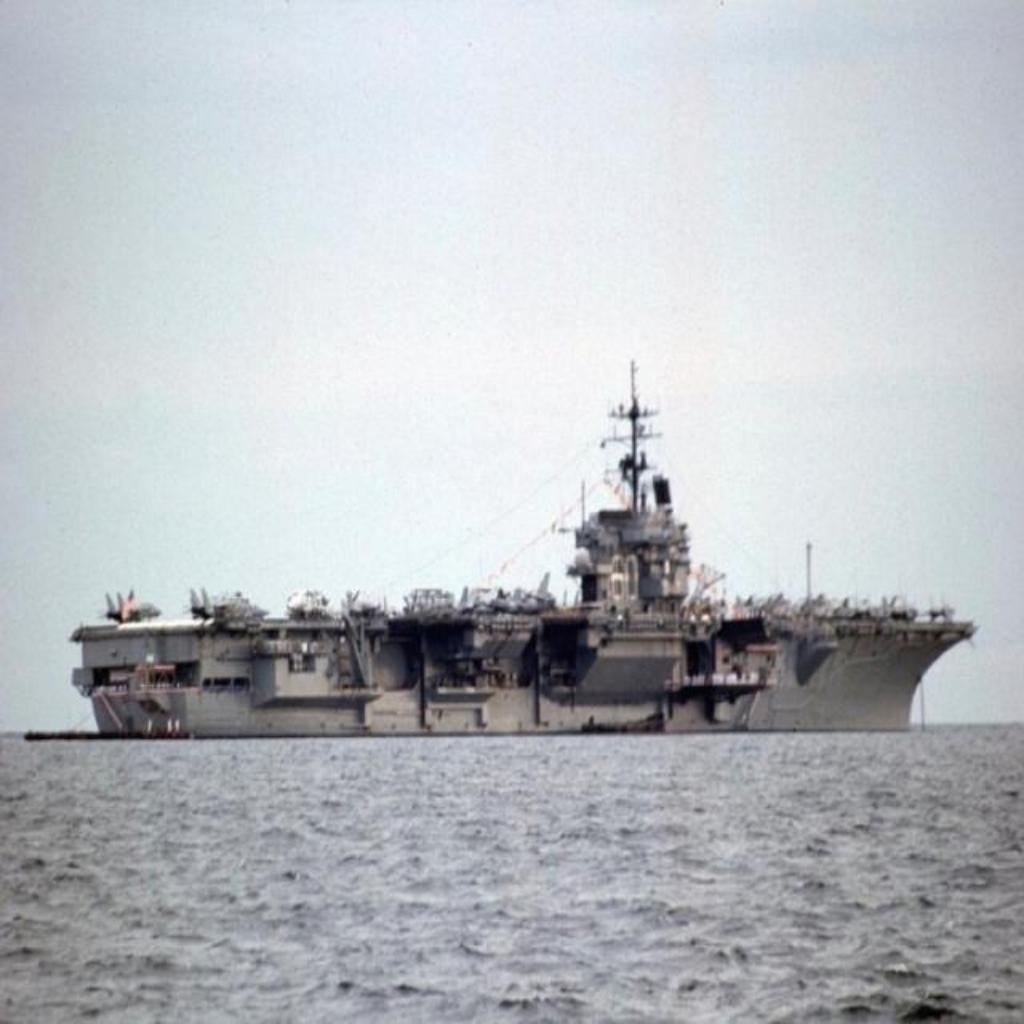Warship: (65, 347, 979, 741)
